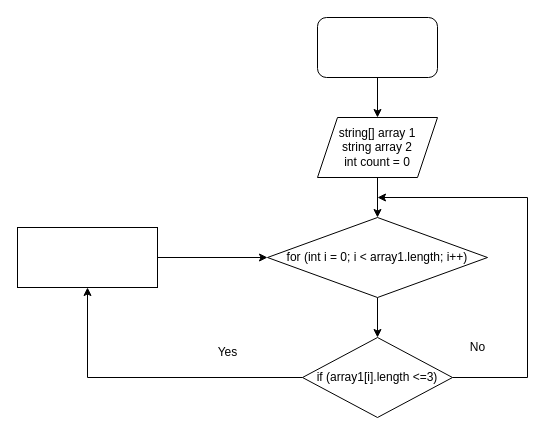
Image size: 553x435. Some labels were removed from this diagram. The centre of each missing label's shape, as x and y in pixels:
array2[count] = array1[i] count++;: (x=87, y=257)
SecondArrayWith: (x=377, y=47)
